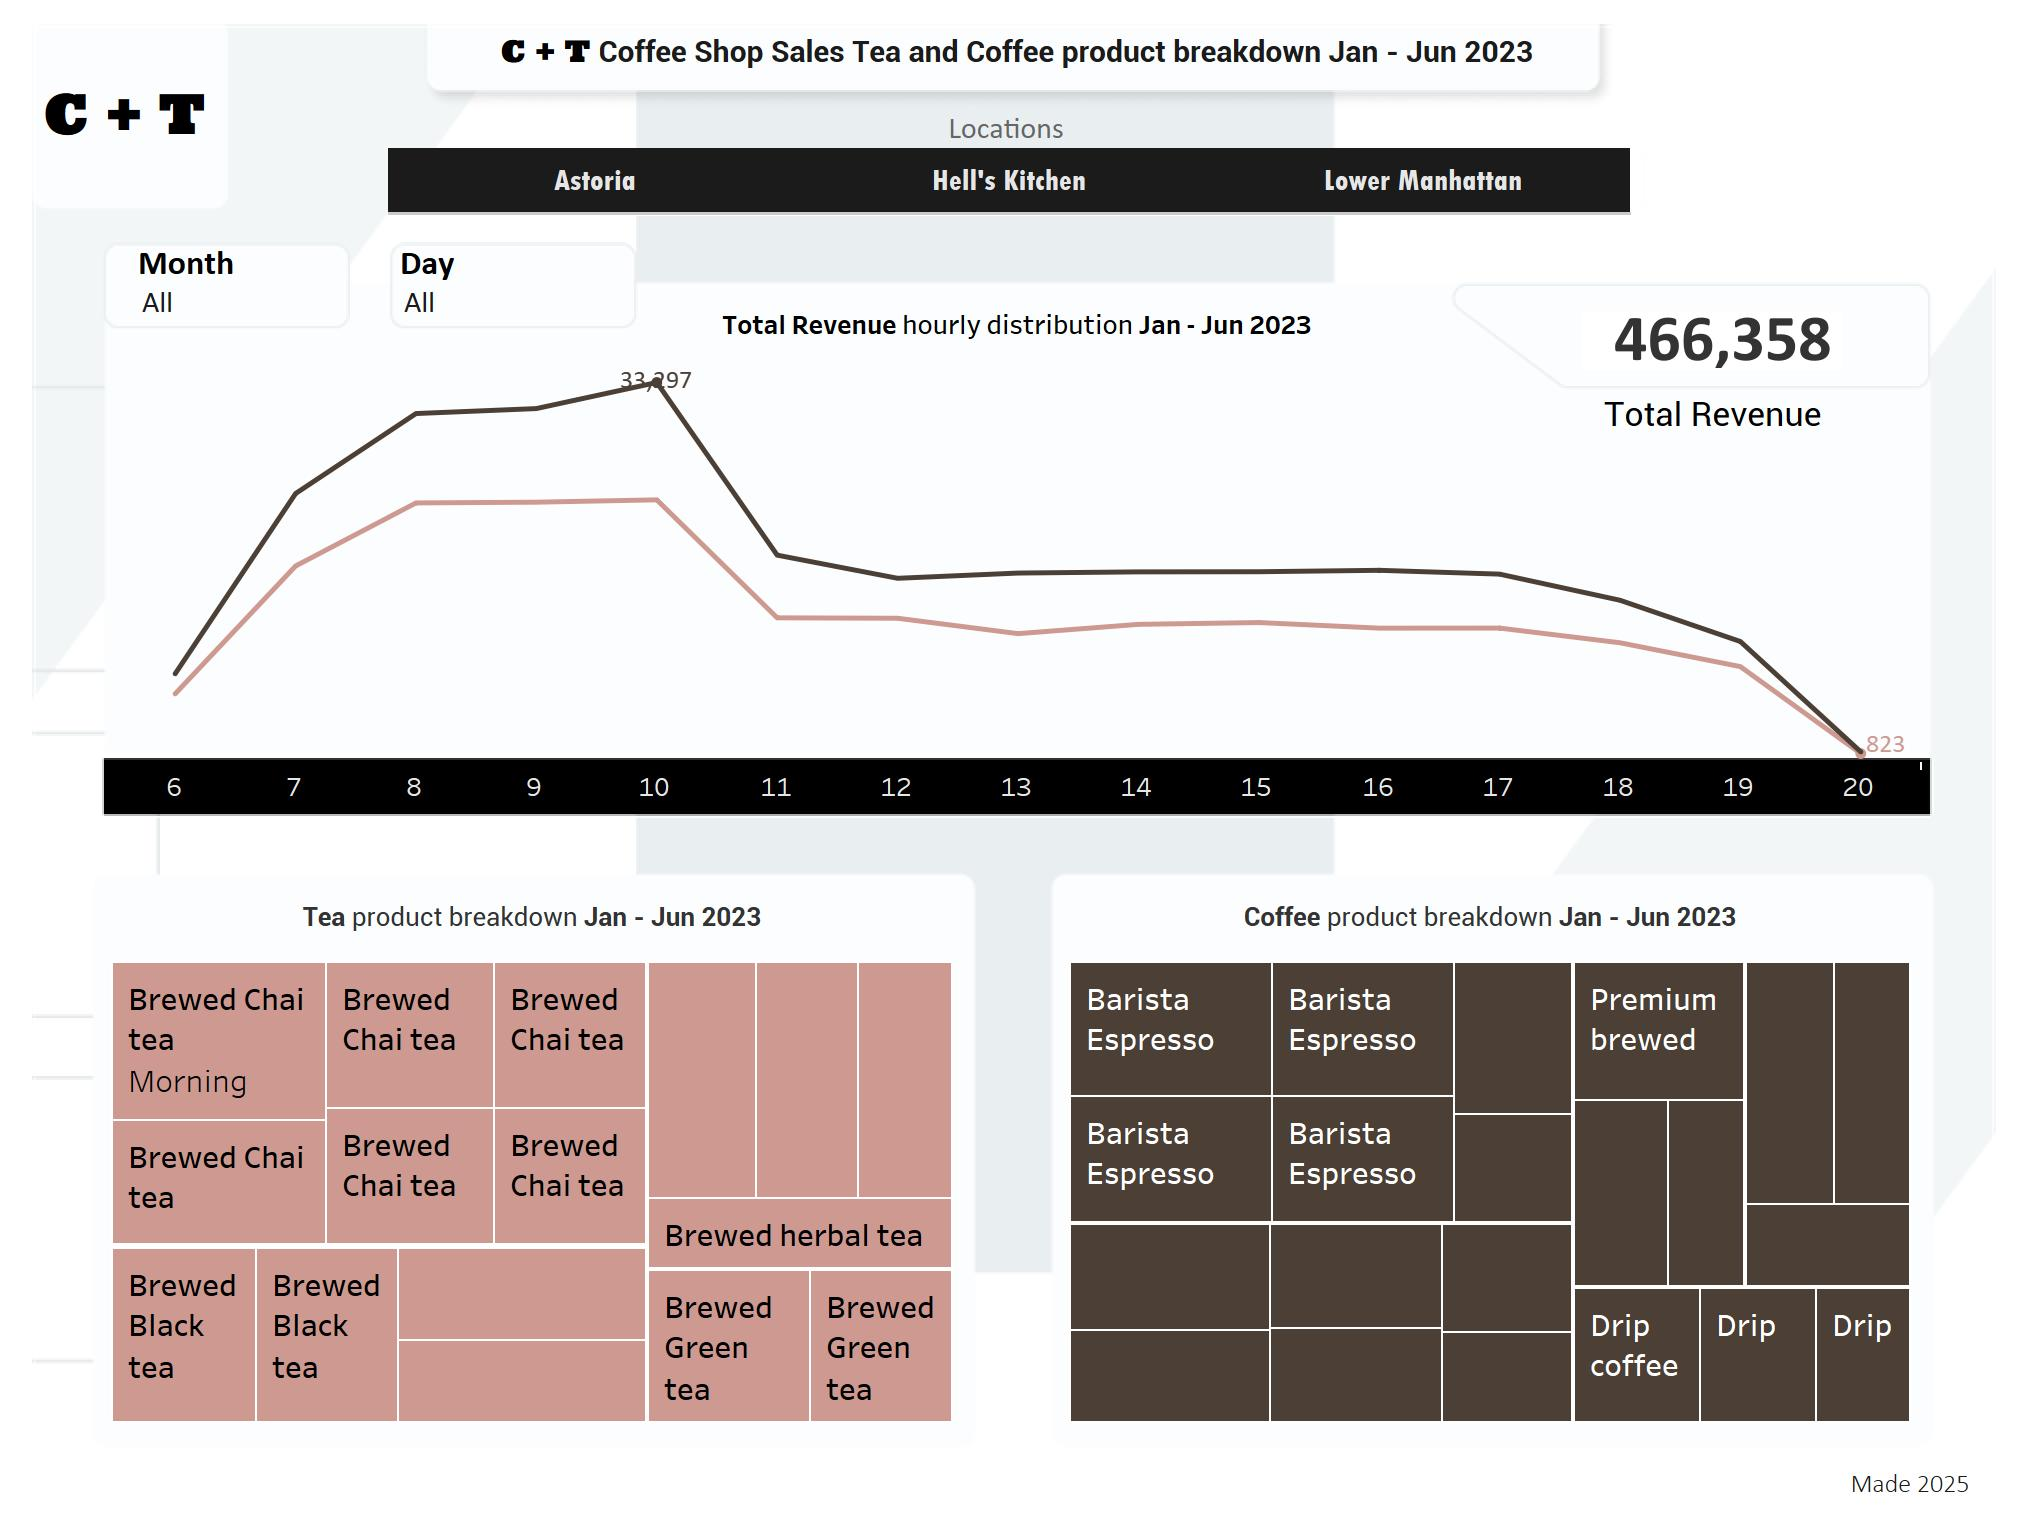

This screenshot's page, from the dashboard's own definition file:
{"tool":"tableau","page":{"name":"Dashboard 1","canvas":[1366,768],"ordinal":0},"visuals":[{"type":"image","param":"C:/Users/easg9/Documents/Data Analyst/A Portfolio Projects/Mobile Phone Sales An","box":[0,0,1366,768]},{"type":"text","box":[17,4,51,47]},{"type":"text","box":[250,10,824,51]},{"type":"text","box":[93,56,246,30]},{"type":"worksheet","title":"Sheet 4","mark":"Automatic","rows":["Brand","Amount"],"cols":["Year"],"box":[660,59,663,335]},{"type":"text","box":[762,59,246,30]},{"type":"worksheet","title":"Sheet 1","mark":"Automatic","box":[2,60,85,130]},{"type":"worksheet","title":"Sheet 5","mark":"Automatic","rows":["Sales"],"cols":["Month Name"],"box":[91,66,553,313]},{"type":"worksheet","title":"Sheet 6","mark":"Multipolygon","box":[658,412,668,346]},{"type":"worksheet","title":"Sheet 3","mark":"Square","rows":["Distributor"],"cols":["Operator"],"box":[91,420,559,340]},{"type":"legend","title":"Sheet 3","param":"[federated.097fmhs0agxh4v1afh2vx0t0uf86].[none:Brand:nk]","box":[4,434,84,157]}]}

Visuals, with their boxes on the page's 1366x768 design canvas (x1, y1, x2, y2). These are canvas units, not pixel positions in the 2028x1536 screenshot, which may show the page scaled, cropped or inside an application window:
image: l=0, t=0, r=1366, b=768
text: l=17, t=4, r=68, b=51
text: l=250, t=10, r=1074, b=61
text: l=93, t=56, r=339, b=86
"Sheet 4" worksheet: l=660, t=59, r=1323, b=394
text: l=762, t=59, r=1008, b=89
"Sheet 1" worksheet: l=2, t=60, r=87, b=190
"Sheet 5" worksheet: l=91, t=66, r=644, b=379
"Sheet 6" worksheet (Multipolygon marks): l=658, t=412, r=1326, b=758
"Sheet 3" worksheet (Square marks): l=91, t=420, r=650, b=760
"Sheet 3" legend: l=4, t=434, r=88, b=591
